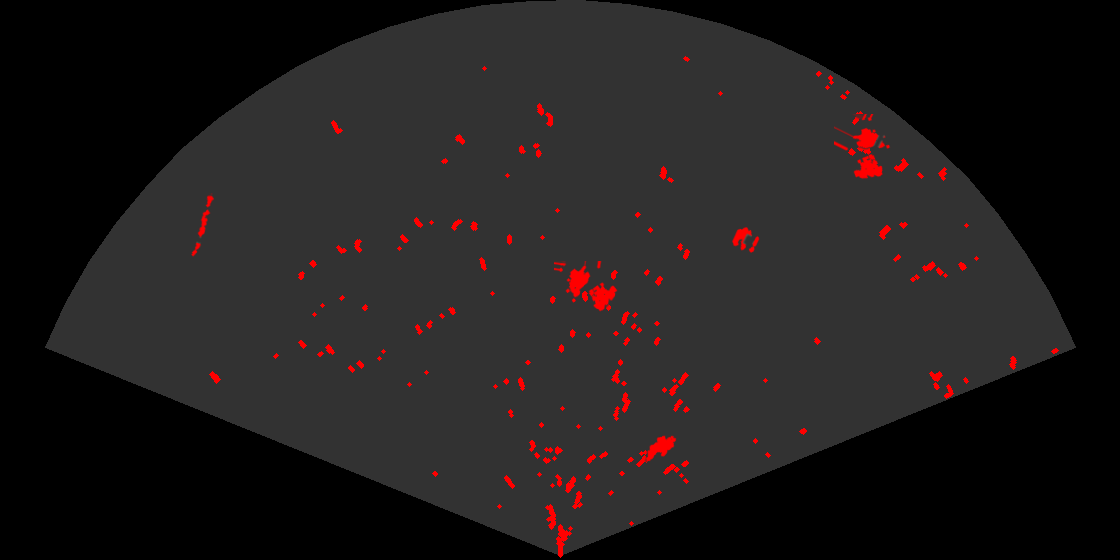AUV: (644, 434, 678, 463)
ball: (730, 225, 761, 254)
cage: (834, 114, 891, 181), (554, 261, 619, 313)
chain: (190, 193, 216, 259)
